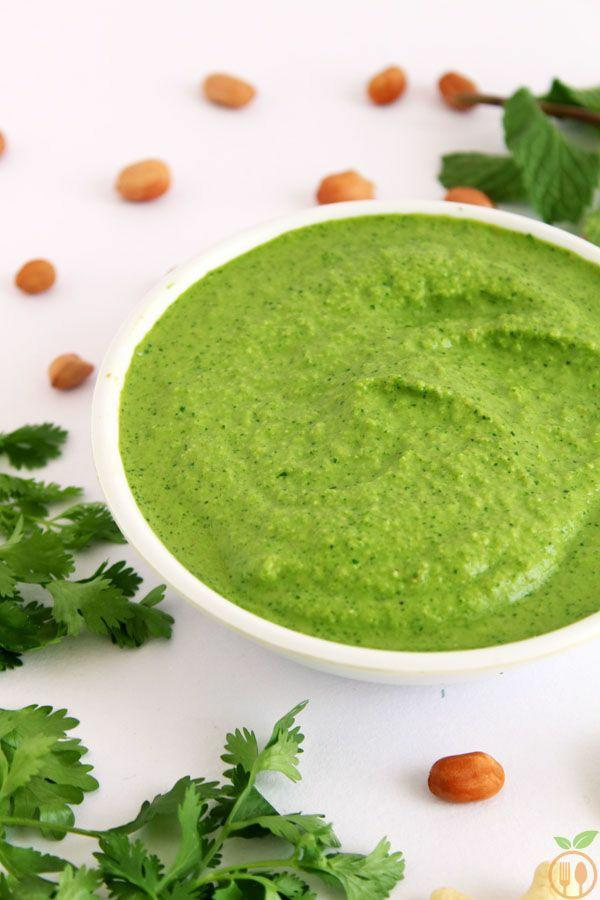GreenChutney: (118, 212, 600, 652)
